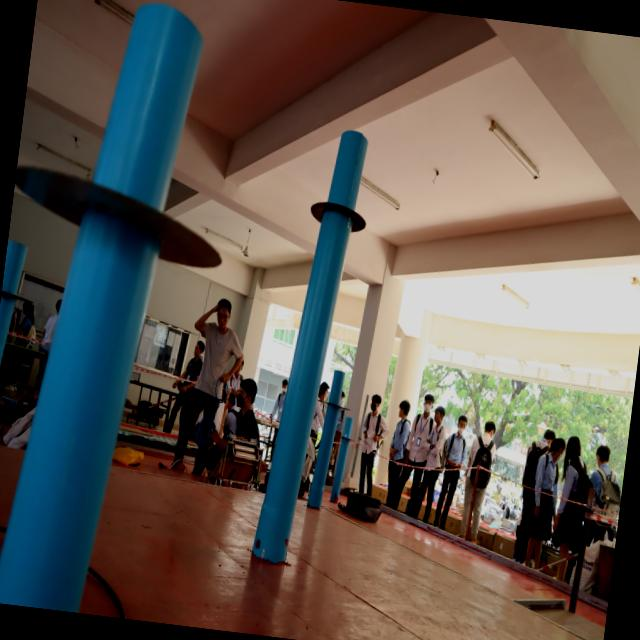pole: (0, 0, 242, 351), (293, 119, 380, 281), (314, 366, 356, 420), (336, 410, 362, 447)
